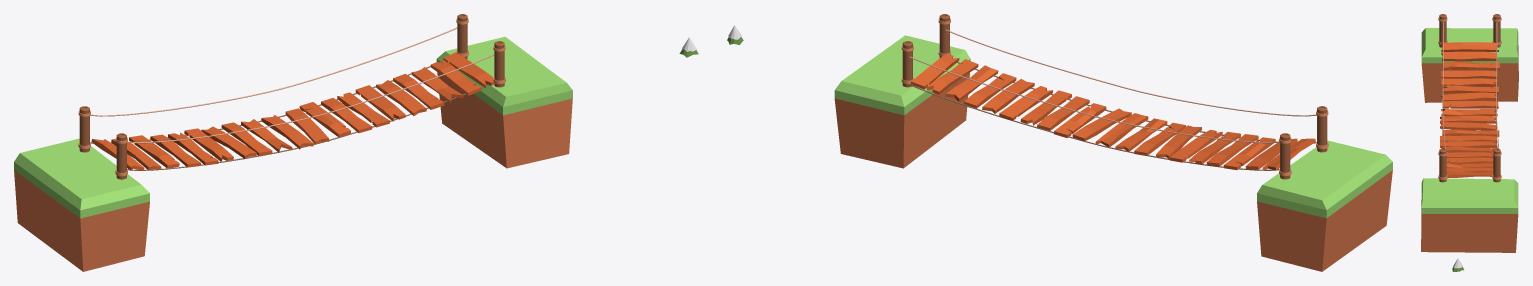
Rendered from Jembatan.fbx.
3 views of the same model, side by side, from view 1: azimuth 30°, elevation 25°; view 2: azimuth 150°, elevation 25°; view 3: azimuth 270°, elevation 25° (orthographic). The views are drawn at different scales.
Parts seen in each view (by area): view 1: Cube.063, Cube.034, BezierCurve, BezierCurve.001, Cube.062, Cube.056, Cube.060, Cube.058, Cube.057, Cube.061, Cube.052, Cube.053 (+16 smaller); view 2: Cube.063, Cube.034, Cube.053, Cube.056, BezierCurve, BezierCurve.001, Cube.060, Cube.058, Cube.061, Cube.057, Cube.059, Cube.062 (+17 smaller); view 3: Cube.034, Cube.063, Cube.043, Cube.044, Cube.045, Cube.046, Cube.048, Cube.051, Cube.049, Cube.053, Cube.052, Cube.047 (+17 smaller).
Boxes of the visible parts, x1=… form: Cube.063: x1=14, y1=138, x2=149, y2=271; Cube.034: x1=436, y1=36, x2=572, y2=168; BezierCurve: x1=127, y1=54, x2=494, y2=143; BezierCurve.001: x1=90, y1=27, x2=457, y2=116; Cube.062: x1=443, y1=52, x2=494, y2=87; Cube.056: x1=355, y1=85, x2=405, y2=121; Cube.060: x1=299, y1=102, x2=350, y2=137; Cube.058: x1=376, y1=80, x2=426, y2=115; Cube.057: x1=393, y1=74, x2=444, y2=109; Cube.061: x1=430, y1=60, x2=481, y2=95; Cube.052: x1=261, y1=115, x2=313, y2=149; Cube.053: x1=285, y1=108, x2=329, y2=144; Cube.063: x1=1257, y1=140, x2=1392, y2=271; Cube.034: x1=834, y1=35, x2=970, y2=168; Cube.053: x1=1072, y1=108, x2=1131, y2=141; Cube.056: x1=999, y1=86, x2=1052, y2=120; BezierCurve: x1=945, y1=29, x2=1316, y2=116; BezierCurve.001: x1=909, y1=56, x2=1279, y2=143; Cube.060: x1=1054, y1=103, x2=1106, y2=137; Cube.058: x1=982, y1=79, x2=1034, y2=113; Cube.061: x1=926, y1=59, x2=978, y2=94; Cube.057: x1=964, y1=73, x2=1016, y2=108; Cube.059: x1=945, y1=65, x2=998, y2=101; Cube.062: x1=910, y1=54, x2=959, y2=89; Cube.034: x1=1421, y1=178, x2=1518, y2=252; Cube.063: x1=1421, y1=28, x2=1518, y2=102; Cube.043: x1=1441, y1=42, x2=1498, y2=51; Cube.044: x1=1441, y1=51, x2=1497, y2=61; Cube.045: x1=1441, y1=70, x2=1497, y2=78; Cube.046: x1=1441, y1=78, x2=1497, y2=86; Cube.048: x1=1443, y1=100, x2=1498, y2=108; Cube.051: x1=1443, y1=61, x2=1499, y2=70; Cube.049: x1=1441, y1=92, x2=1497, y2=101; Cube.053: x1=1440, y1=122, x2=1496, y2=131; Cube.052: x1=1440, y1=115, x2=1496, y2=123; Cube.047: x1=1443, y1=85, x2=1498, y2=94.
Size of the model in its own units: 16124 by 2762 by 2922.
